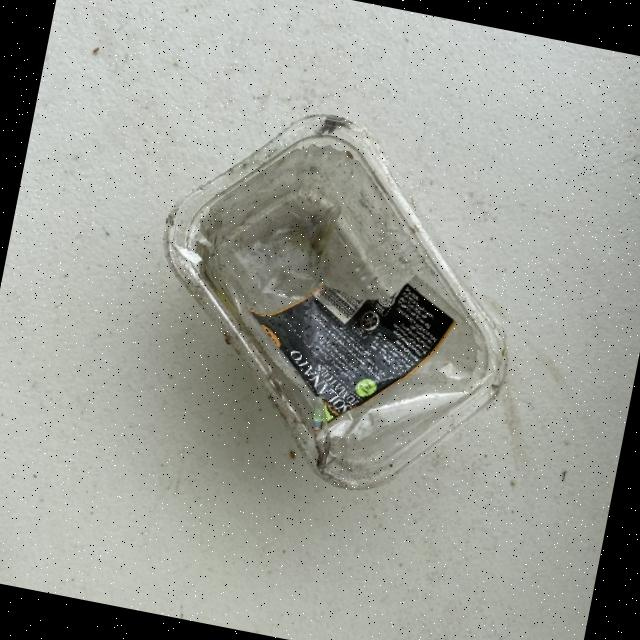plastic: (122, 85, 548, 515)
